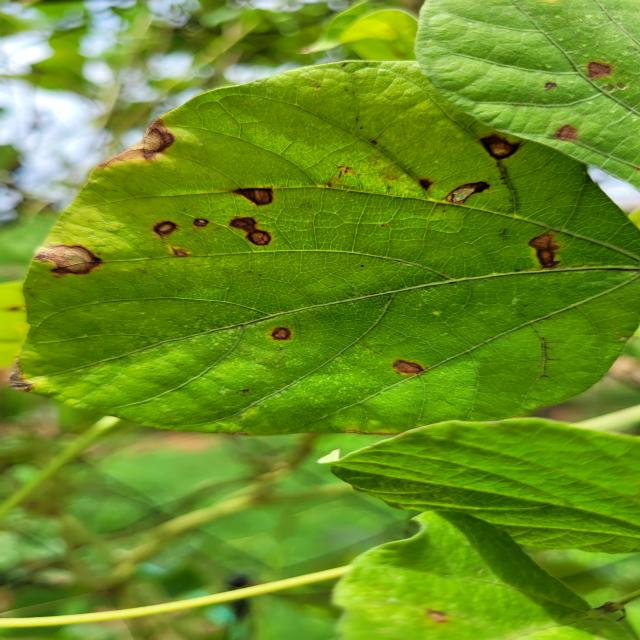Dolicos bean_cercospora leaf spot: (12, 59, 640, 439), (426, 0, 640, 195)
